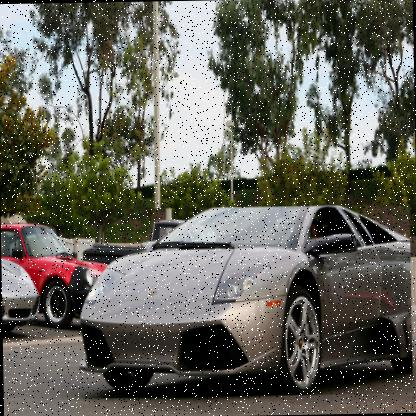Car: (0, 204, 413, 402)
